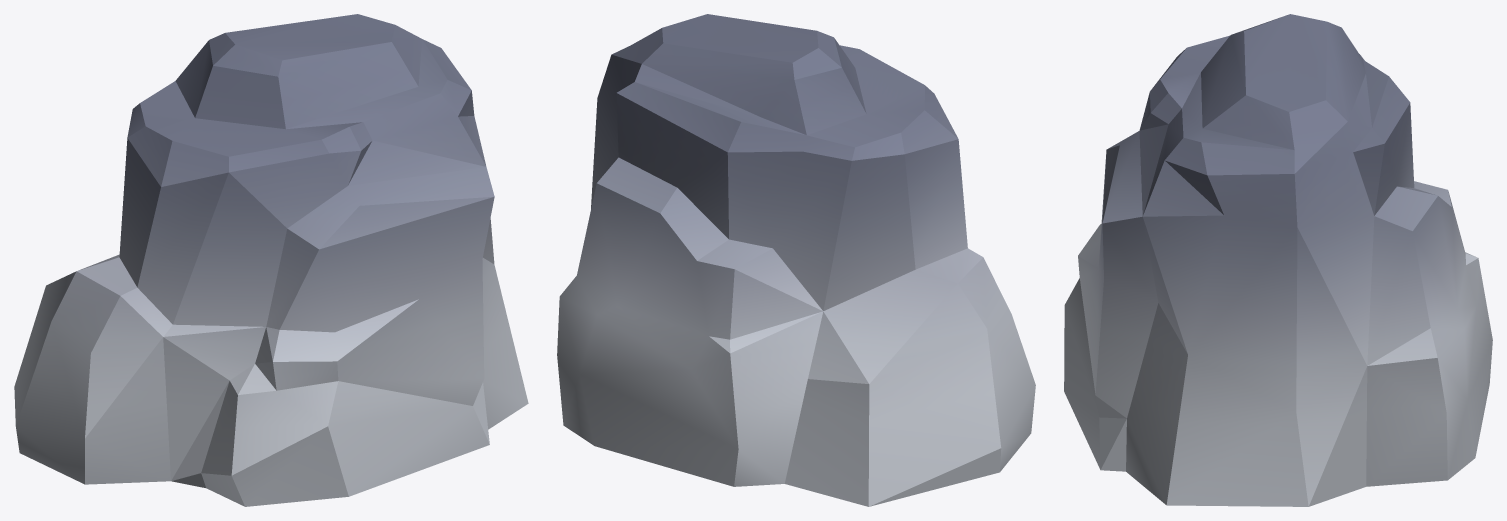
The model's file is Terrain_Stage2_Mountain_10.fbx.
The picture shows the model from 3 angles, left to right: view 1: azimuth 30°, elevation 25°; view 2: azimuth 150°, elevation 25°; view 3: azimuth 270°, elevation 25°; orthographic projection. The views are drawn at different scales.
Visible parts, largest first — view 1: terrain_mountain_433; view 2: terrain_mountain_433; view 3: terrain_mountain_433.
Part boxes in pixels (box(x1,y1,x2,y2)): terrain_mountain_433: box(14, 14, 528, 506); terrain_mountain_433: box(557, 14, 1035, 506); terrain_mountain_433: box(1064, 14, 1492, 506).
Bounding box in the file's own units: 645 × 514 × 531.
Materials: 1 (1 with a texture image).
